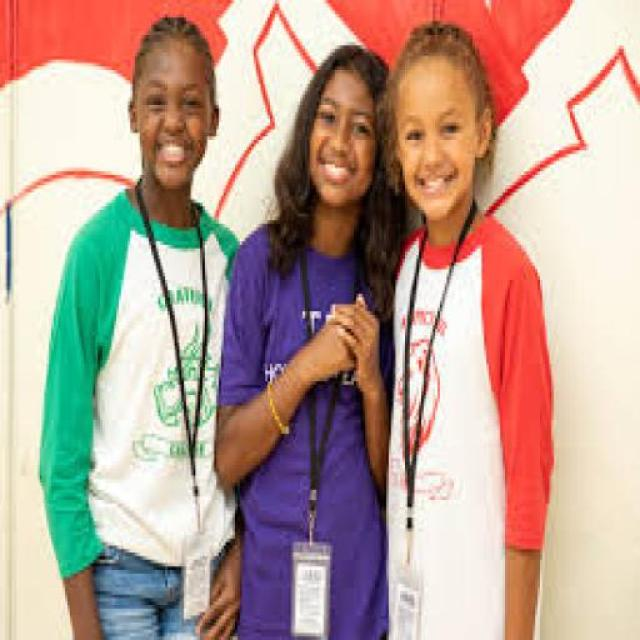id_card: (384, 207, 481, 638), (140, 196, 212, 620), (288, 236, 350, 638)
